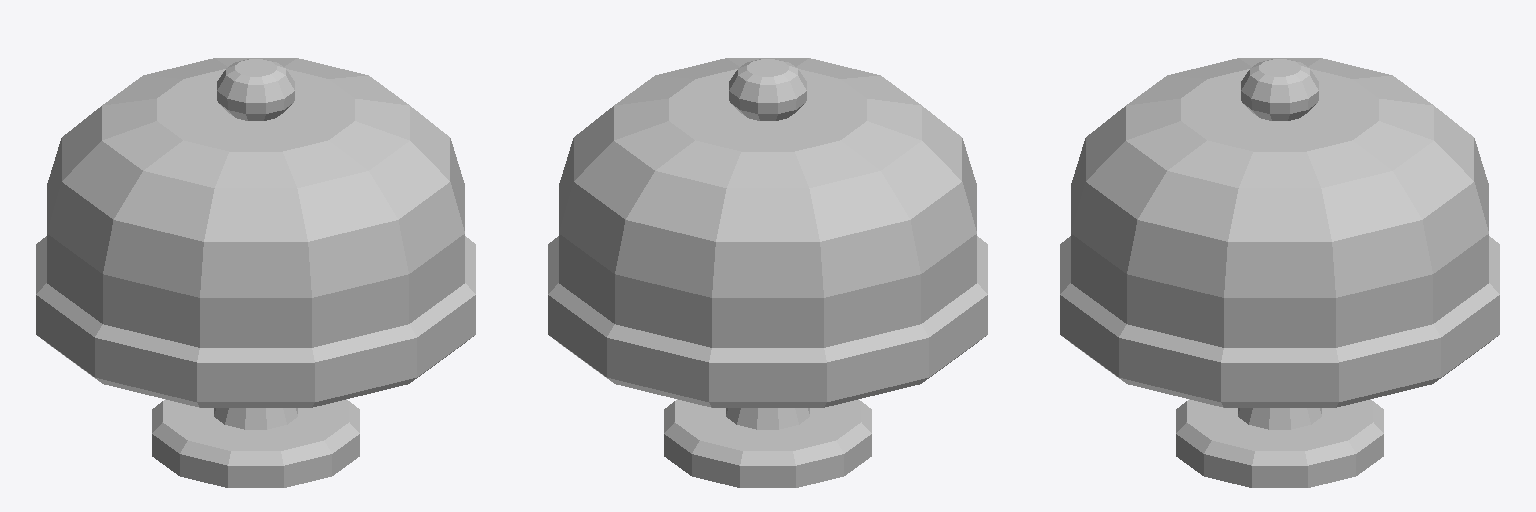
Rendered from pastry_stand_A_covered.obj.
3 renders of one model, left to right at view 1: azimuth 30°, elevation 25°; view 2: azimuth 150°, elevation 25°; view 3: azimuth 270°, elevation 25°, orthographic.
Parts seen in each view (by area): view 1: pastry_stand_A_covered; view 2: pastry_stand_A_covered; view 3: pastry_stand_A_covered.
Part boxes in pixels (x1,y1,x2,y2): pastry_stand_A_covered: (36, 58, 475, 487); pastry_stand_A_covered: (548, 58, 987, 487); pastry_stand_A_covered: (1060, 58, 1499, 487).
Size of the model in its own units: 0.8 by 0.754 by 0.8.